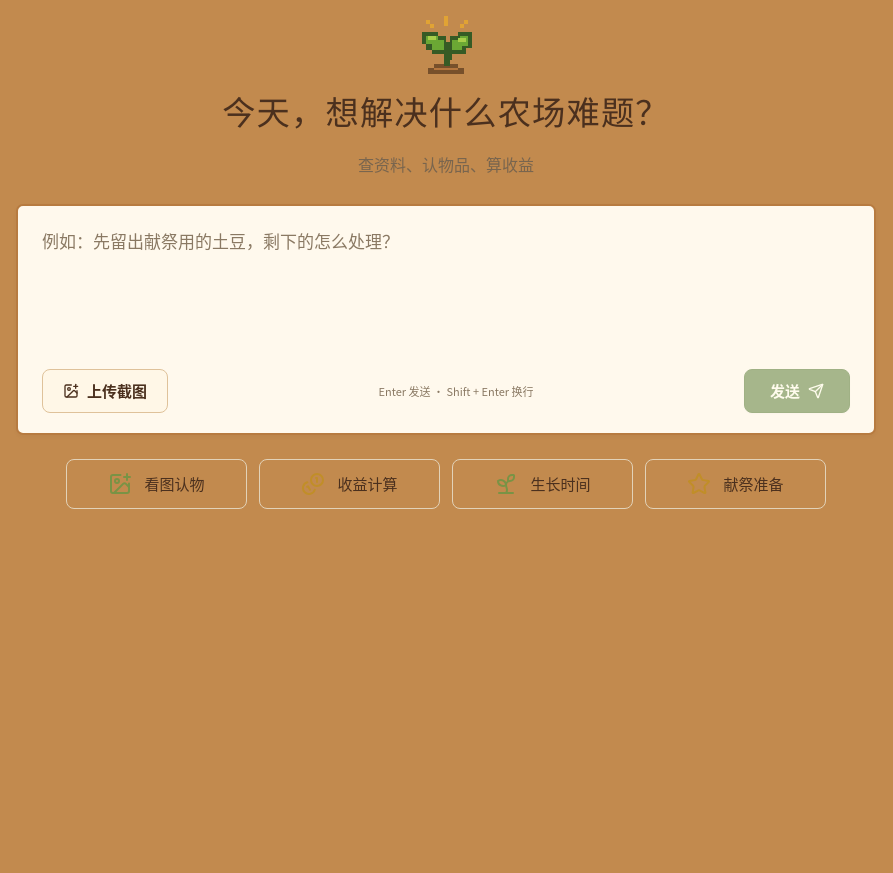
Scenario: chat without a knowledge snapshot › asks for a key before creating any task and keeps the draft
Type "土豆多少钱？" into the text box named "你的农场问题" at (446, 287), box top-left (42, 226), bottom-right (850, 348)
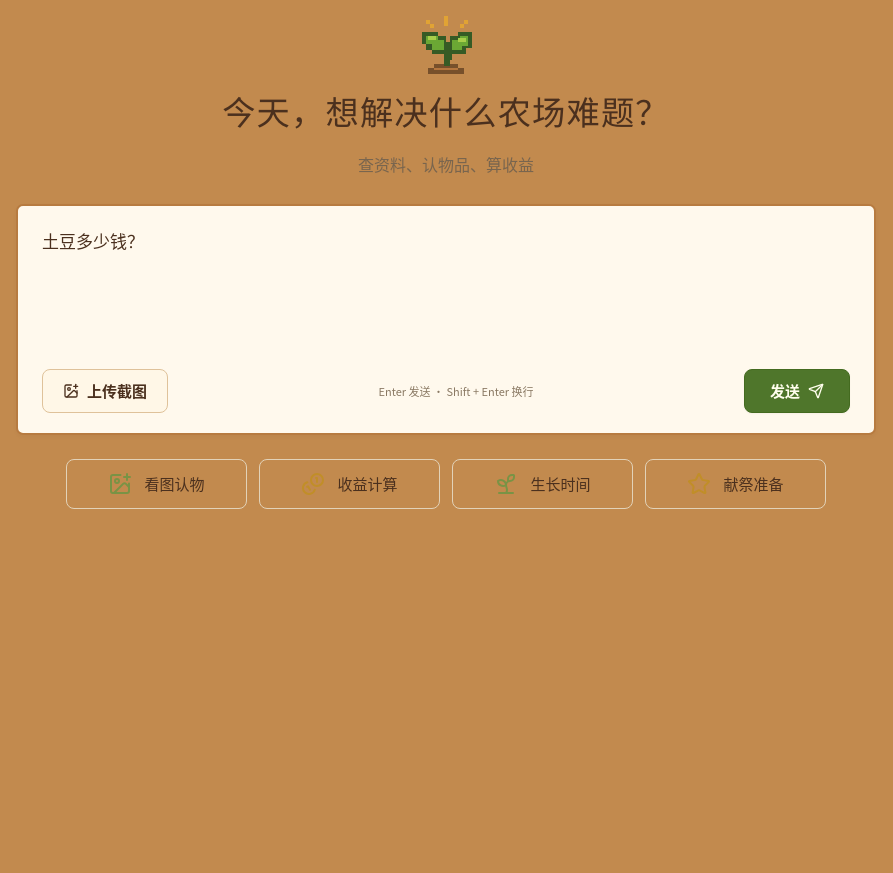
Click the button "发送" at (797, 391), box top-left (744, 369), bottom-right (850, 413)
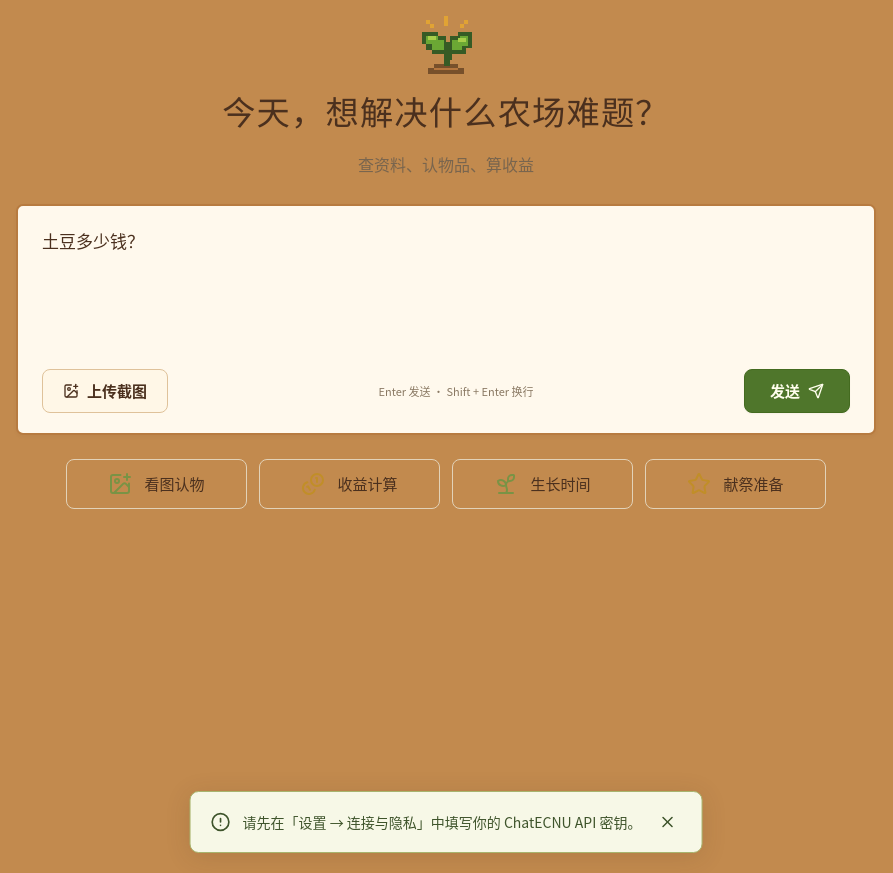
Expected: the message shows "连接与隐私", top-left (242, 812), bottom-right (641, 832)
